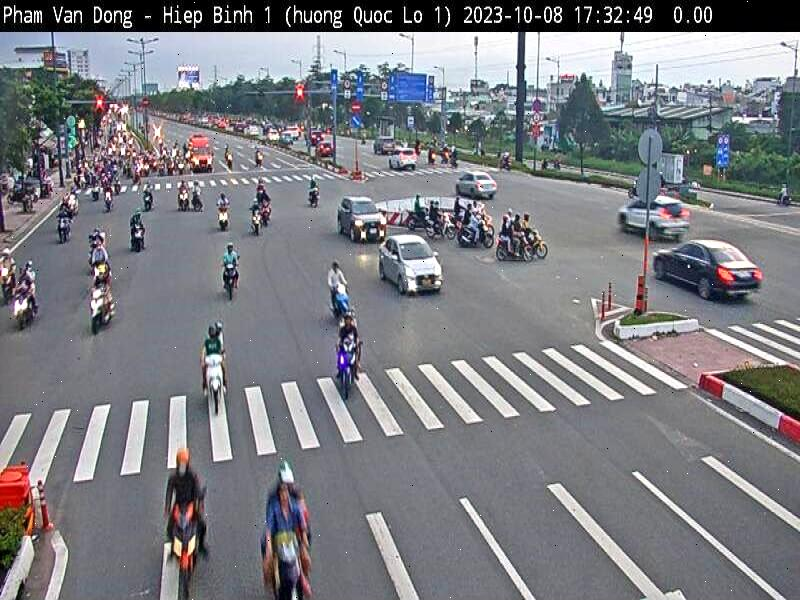car: (652, 241, 763, 306), (379, 235, 444, 296), (620, 195, 693, 238), (335, 192, 386, 243)
